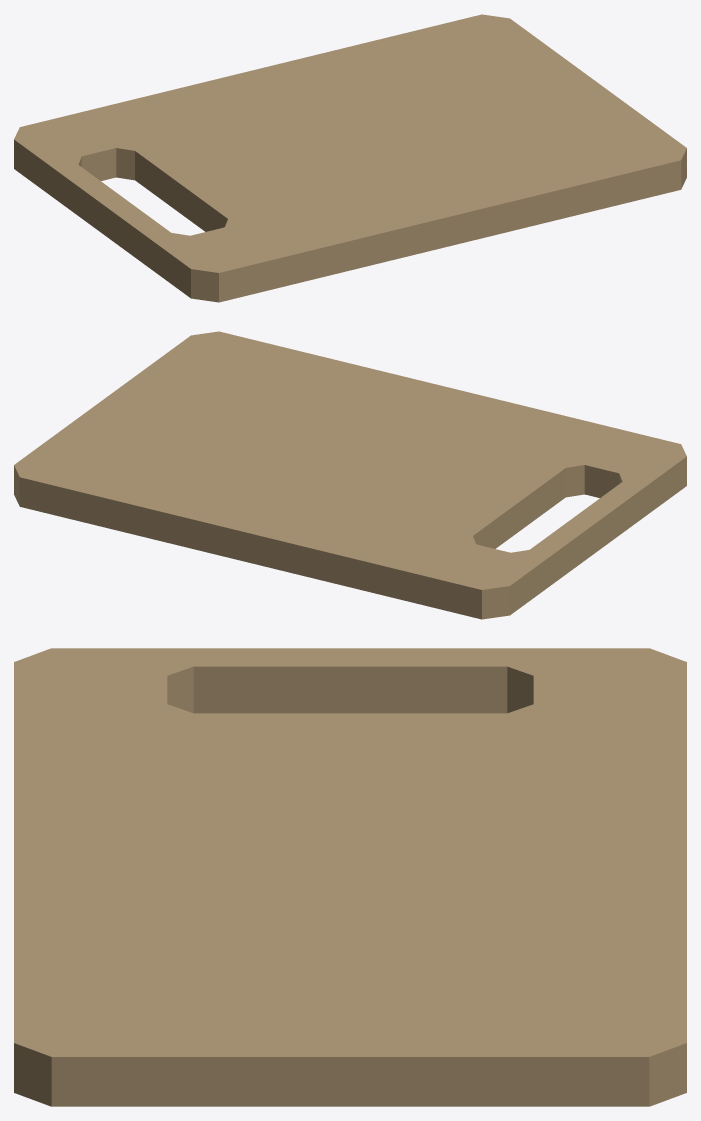
Rendered from SM_Prop_CuttingBoard_01.fbx.
3 views of the same model, one above another, from view 1: azimuth 30°, elevation 25°; view 2: azimuth 150°, elevation 25°; view 3: azimuth 270°, elevation 25° (orthographic). The views are drawn at different scales.
Parts seen in each view (by area): view 1: SM_Prop_CuttingBoard_01; view 2: SM_Prop_CuttingBoard_01; view 3: SM_Prop_CuttingBoard_01.
Boxes of the visible parts, box(x1,y1,x2,y2) form: SM_Prop_CuttingBoard_01: box(14, 14, 686, 302); SM_Prop_CuttingBoard_01: box(14, 331, 686, 619); SM_Prop_CuttingBoard_01: box(14, 648, 686, 1106).
Size of the model in its own units: 53.66 by 3.05 by 37.34.
